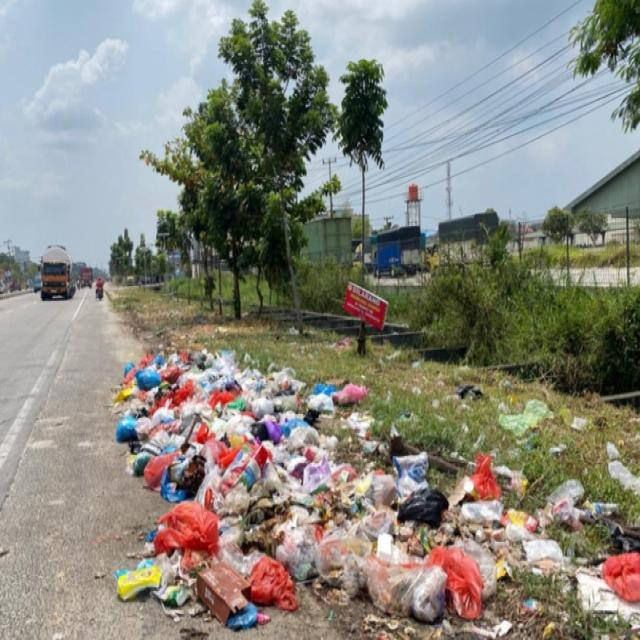trash: (109, 328, 462, 637)
